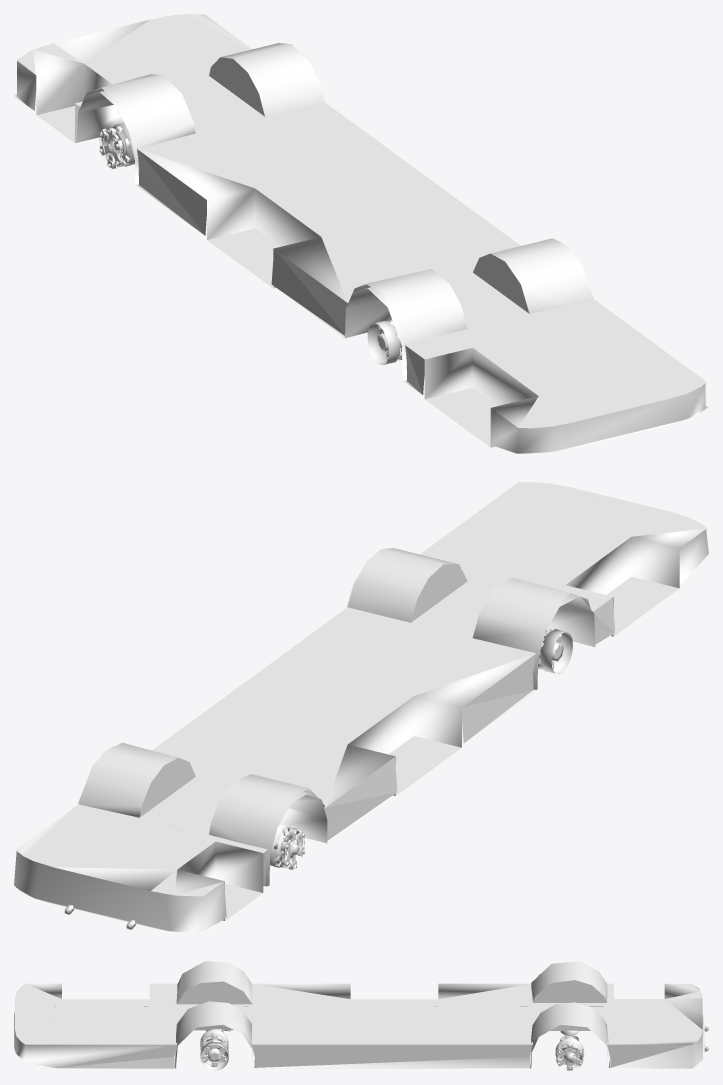
3 renders of one model, top to bottom at view 1: azimuth 30°, elevation 25°; view 2: azimuth 150°, elevation 25°; view 3: azimuth 270°, elevation 25°, orthographic. The views are drawn at different scales.
Size of the model in its own units: 2.37 by 0.8889 by 11.18.
Materials: 1 (1 with a texture image).
